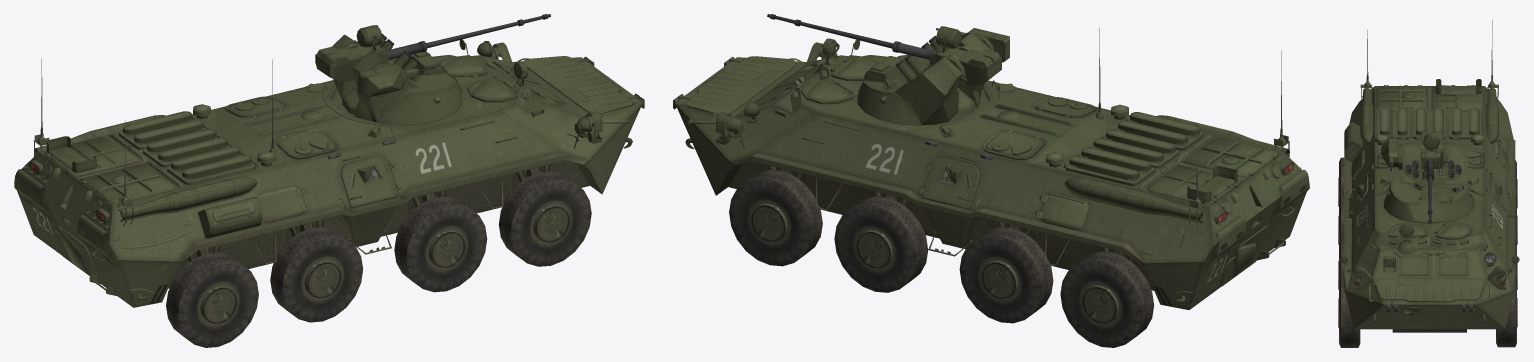
Rendered from BTR.glb.
3 renders of one model, left to right at view 1: azimuth 30°, elevation 25°; view 2: azimuth 150°, elevation 25°; view 3: azimuth 270°, elevation 25°, orthographic. The views are drawn at different scales.
Parts seen in each view (by area): view 1: hull, hull2, hull4, turret, tire7, tire3, tire, tire5, hull3, mount, hatch3, wheel5 (+11 smaller); view 2: hull, hull2, hull4, turret, tire4, tire8, tire2, tire6, hull3, mount, hatch4, wheel4 (+10 smaller); view 3: hull, turret, hull4, hull2, hull3, mount, tire, tire2, hatch7, hatch8, hatch2, hatch (+11 smaller).
Boxes of the visible parts, bbox=[...] form: hull: bbox=[14, 54, 642, 307]; hull2: bbox=[14, 115, 257, 276]; hull4: bbox=[89, 83, 392, 300]; turret: bbox=[332, 34, 462, 125]; tire7: bbox=[166, 252, 258, 347]; tire3: bbox=[394, 196, 487, 292]; tire: bbox=[498, 171, 591, 266]; tire5: bbox=[270, 227, 362, 322]; hull3: bbox=[459, 39, 644, 148]; mount: bbox=[315, 41, 427, 97]; hatch3: bbox=[341, 157, 397, 208]; wheel5: bbox=[301, 256, 343, 301]; hull: bbox=[675, 55, 1306, 309]; hull2: bbox=[1064, 115, 1309, 286]; hull4: bbox=[939, 80, 1285, 302]; turret: bbox=[857, 32, 993, 125]; tire4: bbox=[834, 196, 928, 292]; tire8: bbox=[1060, 251, 1154, 347]; tire2: bbox=[729, 170, 822, 266]; tire6: bbox=[959, 227, 1053, 323]; hull3: bbox=[673, 38, 860, 149]; mount: bbox=[892, 28, 1009, 85]; hatch4: bbox=[922, 158, 979, 209]; wheel4: bbox=[854, 226, 896, 271]; hull: bbox=[1343, 86, 1516, 332]; turret: bbox=[1384, 143, 1474, 223]; hull4: bbox=[1344, 107, 1507, 188]; hull2: bbox=[1360, 79, 1498, 144]; hull3: bbox=[1340, 224, 1519, 323]; mount: bbox=[1381, 130, 1443, 180]; tire: bbox=[1339, 278, 1360, 347]; tire2: bbox=[1496, 278, 1516, 347]; hatch7: bbox=[1393, 252, 1429, 275]; hatch8: bbox=[1438, 252, 1468, 275]; hatch2: bbox=[1435, 221, 1472, 239]; hatch: bbox=[1388, 223, 1427, 238].
Bounding box in the file's own units: 7.7 × 3.24 × 2.91.
Materials: 6 (6 with a texture image).
